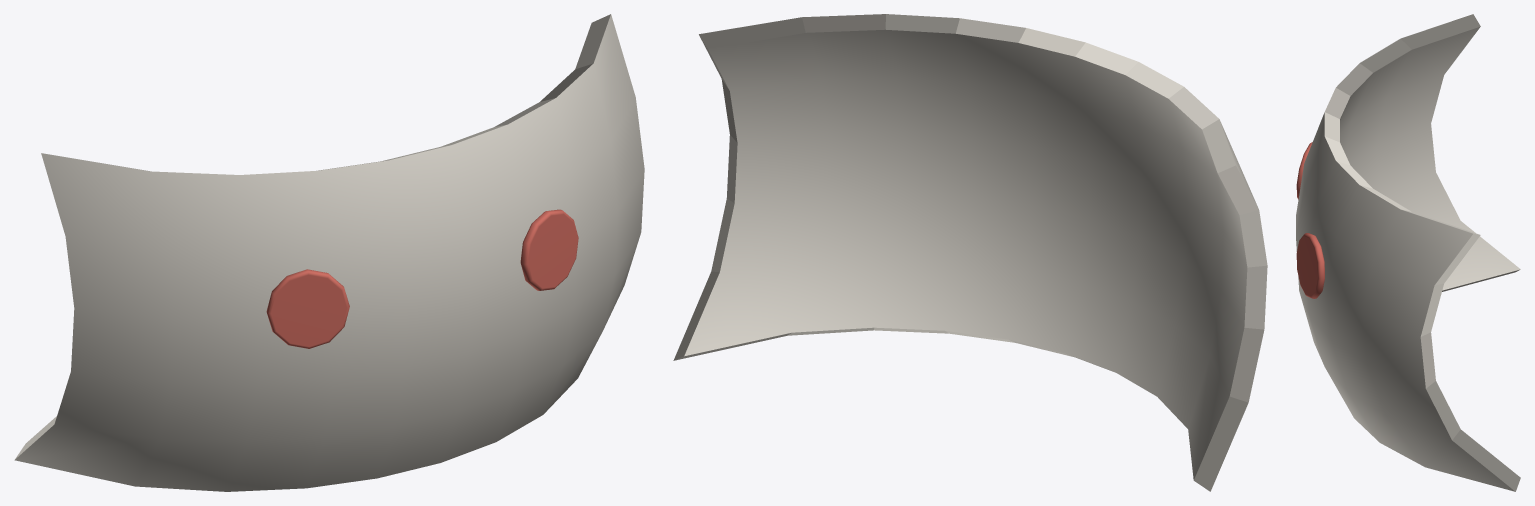
Rendered from candy_skull_mask.glb.
The picture shows the model from 3 angles, left to right: view 1: azimuth 30°, elevation 25°; view 2: azimuth 150°, elevation 25°; view 3: azimuth 270°, elevation 25°; orthographic projection. The views are drawn at different scales.
Parts seen in each view (by area): view 1: candy_skull_mask_Head; view 2: candy_skull_mask_Head; view 3: candy_skull_mask_Head.
Part boxes in pixels (<box>): candy_skull_mask_Head: <box>14,14,644,491</box>; candy_skull_mask_Head: <box>673,14,1267,491</box>; candy_skull_mask_Head: <box>1296,14,1520,491</box>.
Bounding box in the file's own units: 0.5474 × 0.2997 × 0.2365.
